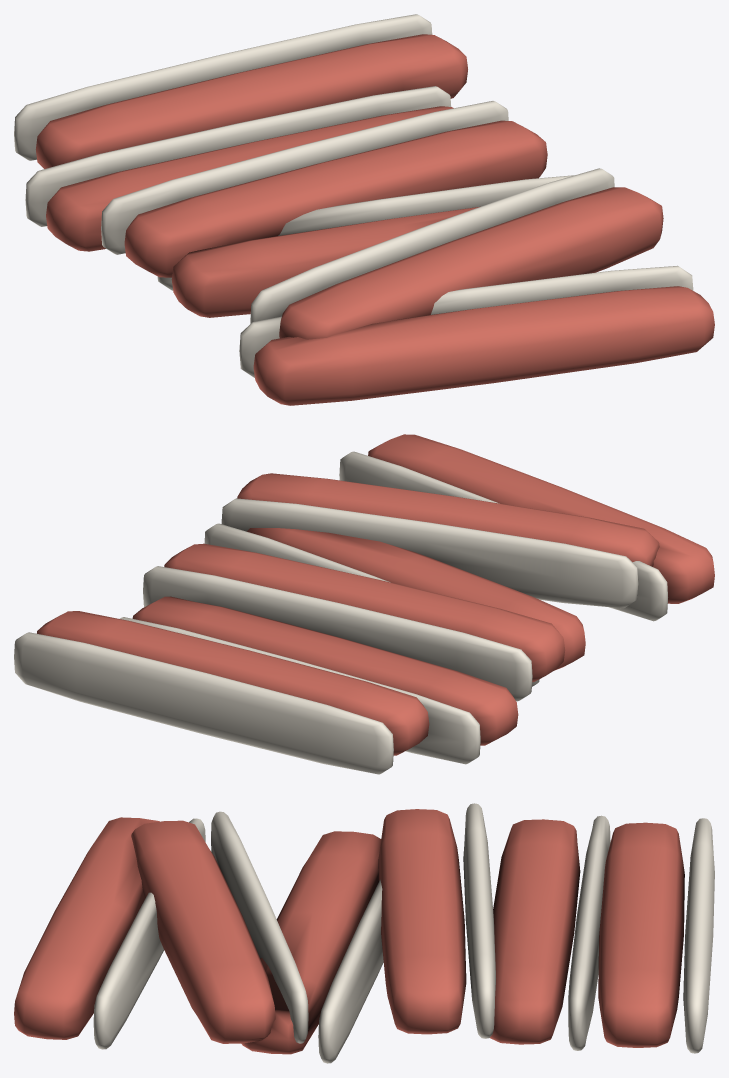
File: prep_strips.glb
3 views of the same model, one above another, from view 1: azimuth 30°, elevation 25°; view 2: azimuth 150°, elevation 25°; view 3: azimuth 270°, elevation 25° (orthographic). The views are drawn at different scales.
Parts seen in each view (by area): view 1: PART; view 2: PART; view 3: PART.
Boxes of the visible parts, <box> form: PART: <box>14,14,714,405</box>; PART: <box>14,434,714,774</box>; PART: <box>14,803,714,1063</box>.
Bounding box in the file's own units: 0.0971 × 0.0166 × 0.1321.
